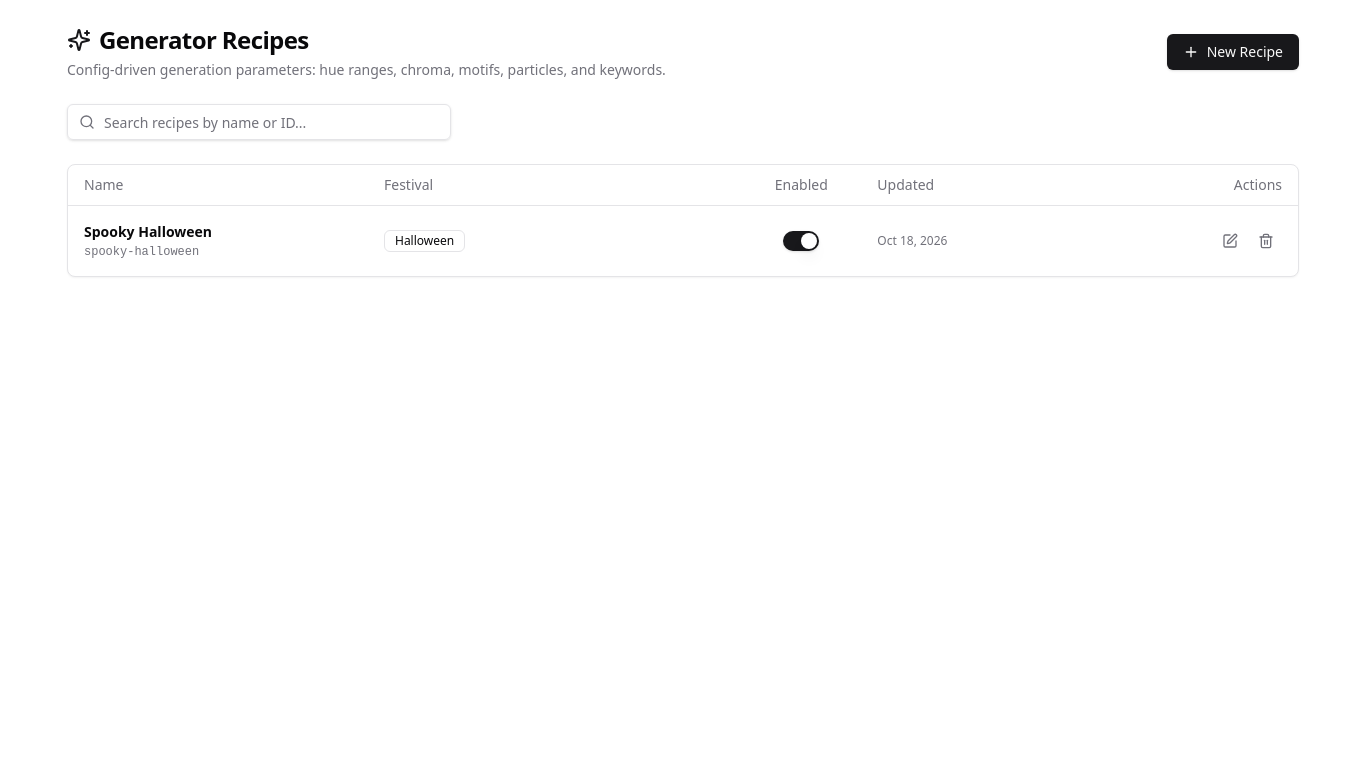
Generator Recipes Pages › Recipes List Page › renders recipe list table and action buttons
expect the text "Spooky Halloween" is shown: met, box [84,222,212,242]
expect the text "spooky-halloween" is shown: met, box [84,244,199,258]
// Clicking delete opens AlertDialog
Click the button titled "Delete recipe". click: x=1266, y=240
box: [1250,224,1282,256]
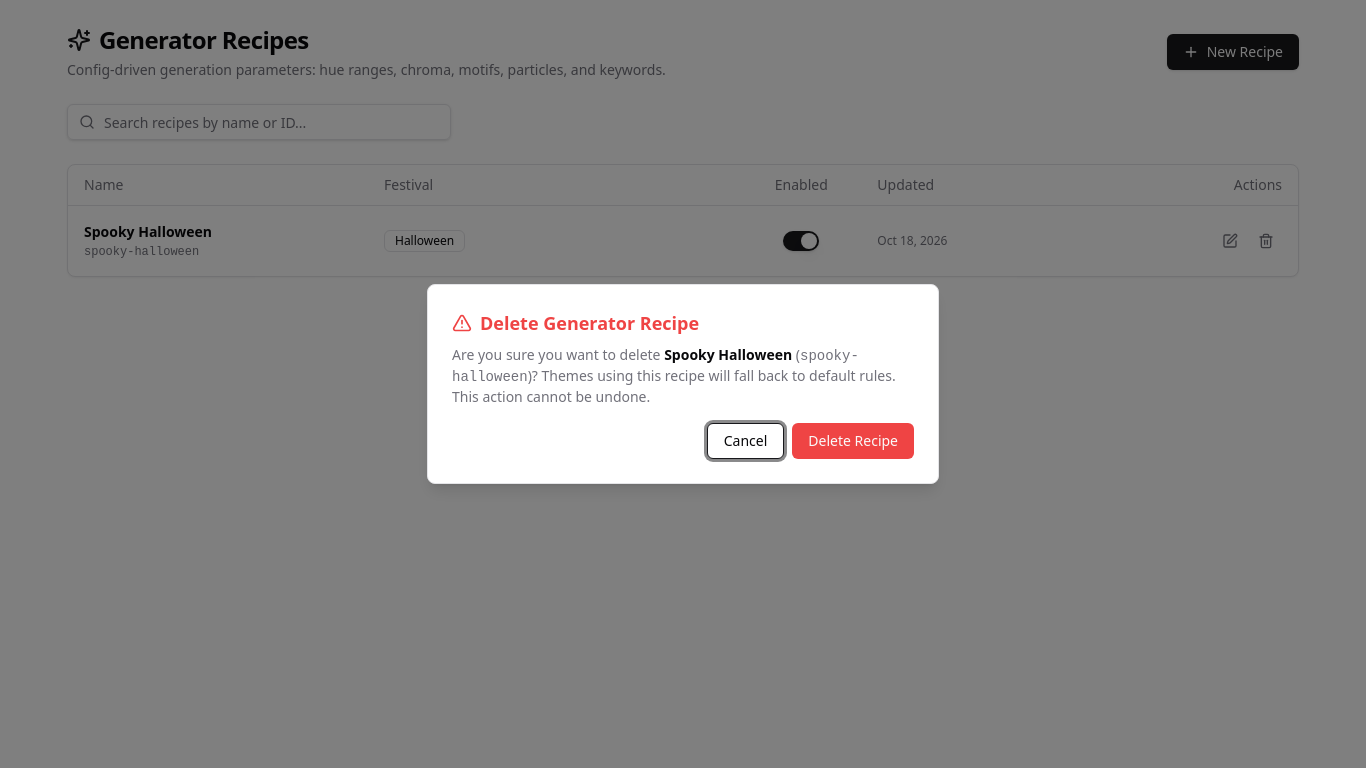
expect the heading "Delete Generator Recipe" is shown: met, box [452,311,699,335]
